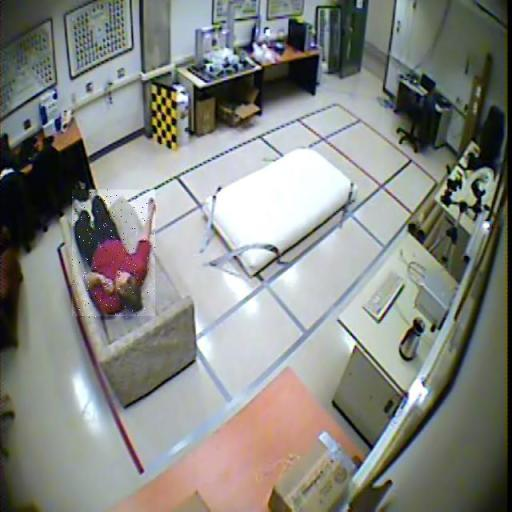Fall: (73, 191, 156, 319)
